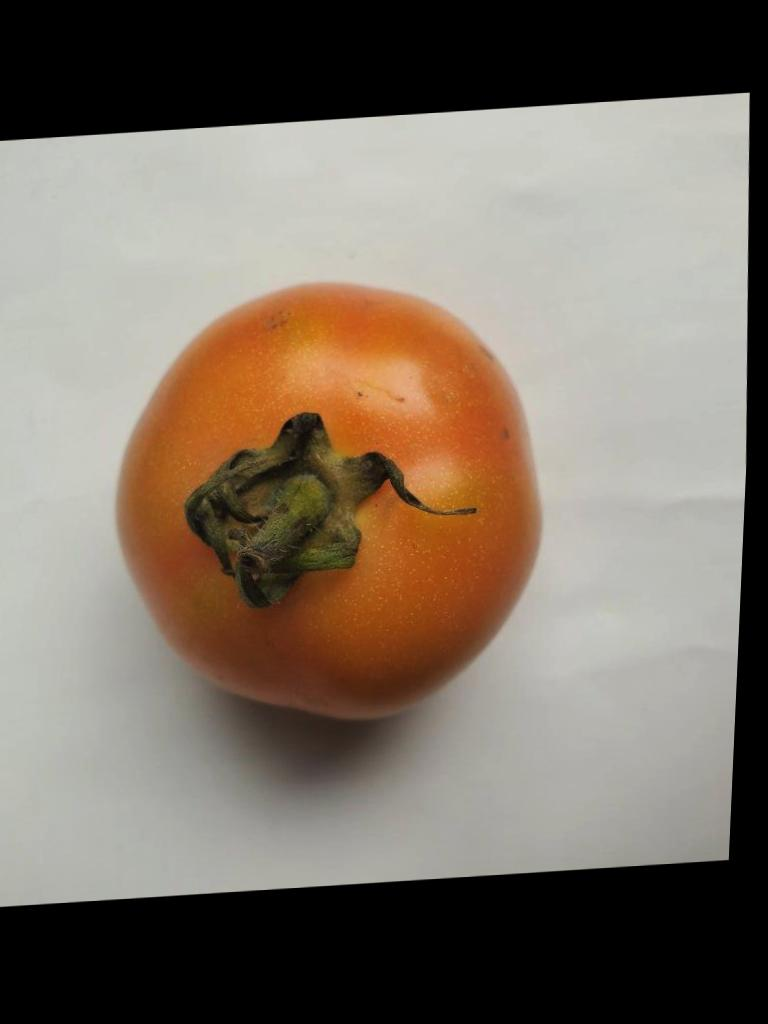tomato: (117, 286, 535, 719)
